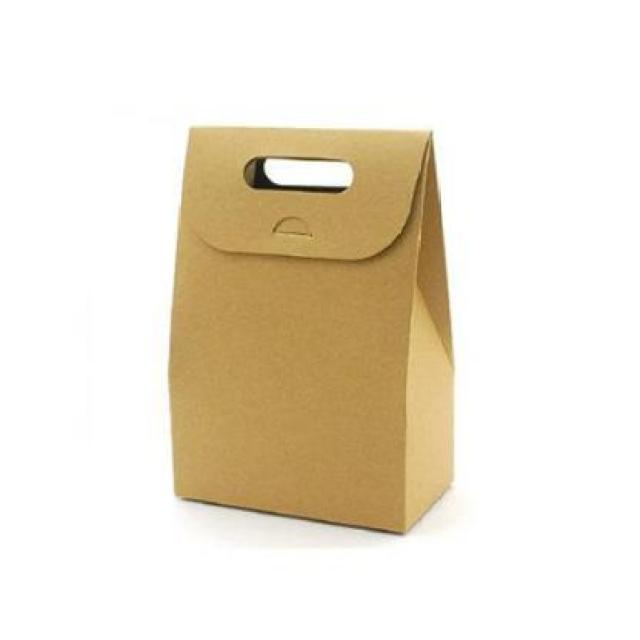box: (152, 117, 474, 544)
